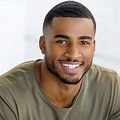person: (39, 1, 96, 85)
